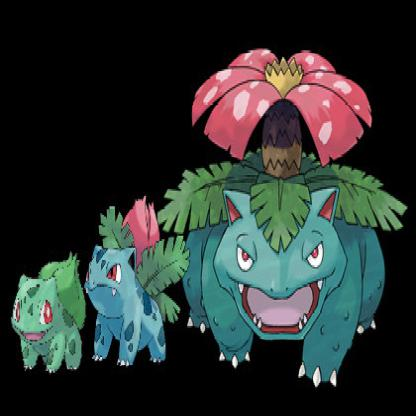Venusaur: (194, 37, 389, 392)
